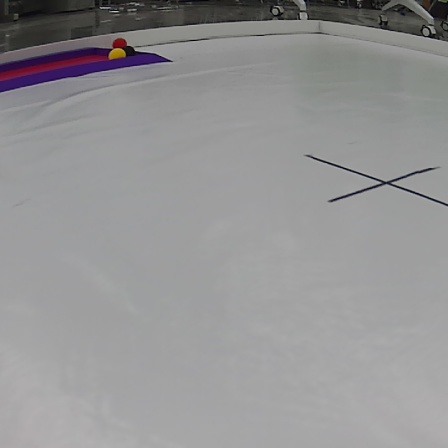black: (124, 46, 136, 56)
red: (112, 38, 127, 46)
red_aim: (0, 43, 173, 96)
yellow: (107, 49, 124, 59)
